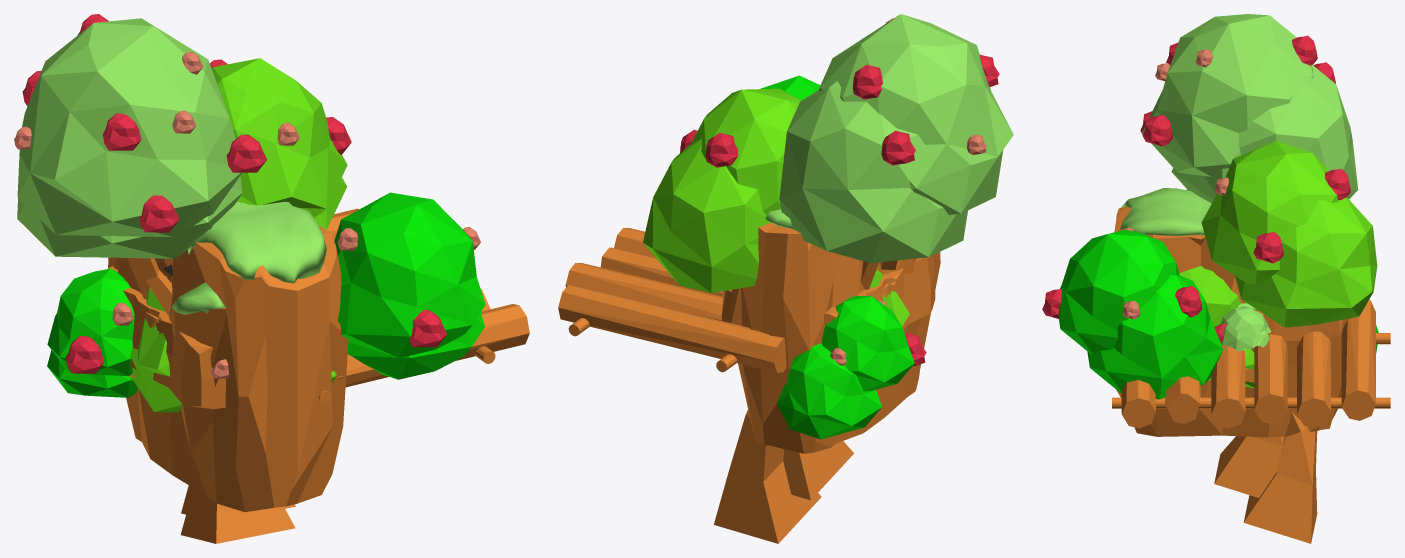
Rendered from islanditems.fbx_Collection.fbx_Collection.fbx.
The picture shows the model from 3 angles, left to right: view 1: azimuth 30°, elevation 25°; view 2: azimuth 150°, elevation 25°; view 3: azimuth 270°, elevation 25°; orthographic projection. The views are drawn at different scales.
Visible parts, largest first — view 1: TreeFruity, PlatformBig, Tree, Platform_01, Bridge, BushBig; view 2: Tree, TreeFruity, PlatformBig, Bridge, Platform_01, BushBig; view 3: TreeFruity, Tree, Bridge, PlatformBig, BushBigFruity, BushMessy, Platform_01.
Part boxes in pixels (x1,y1,x2,y2): TreeFruity: (14,14,485,522); PlatformBig: (108,202,348,512); Tree: (17,176,484,543); Platform_01: (108,266,225,409); Bridge: (318,208,529,403); BushBig: (130,287,181,412); Tree: (643,81,967,543); TreeFruity: (680,14,1013,500); PlatformBig: (730,209,940,453); Bridge: (558,228,786,372); Platform_01: (721,255,935,328); BushBig: (869,270,909,325); TreeFruity: (1042,14,1350,497); Tree: (1087,65,1378,543); Bridge: (1112,299,1390,428); PlatformBig: (1114,188,1349,437); BushBigFruity: (1179,266,1241,380); BushMessy: (1220,306,1271,351); Platform_01: (1238,303,1333,365).
Bounding box in the file's own units: 1420 × 1813 × 1250.
